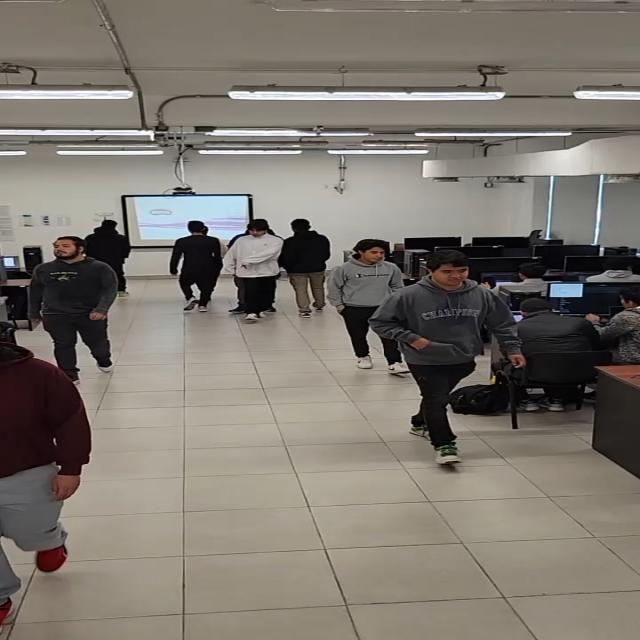Persona: (398, 248, 514, 471), (29, 236, 120, 382), (336, 238, 398, 382), (166, 218, 224, 314), (230, 219, 281, 324), (281, 218, 333, 319)
